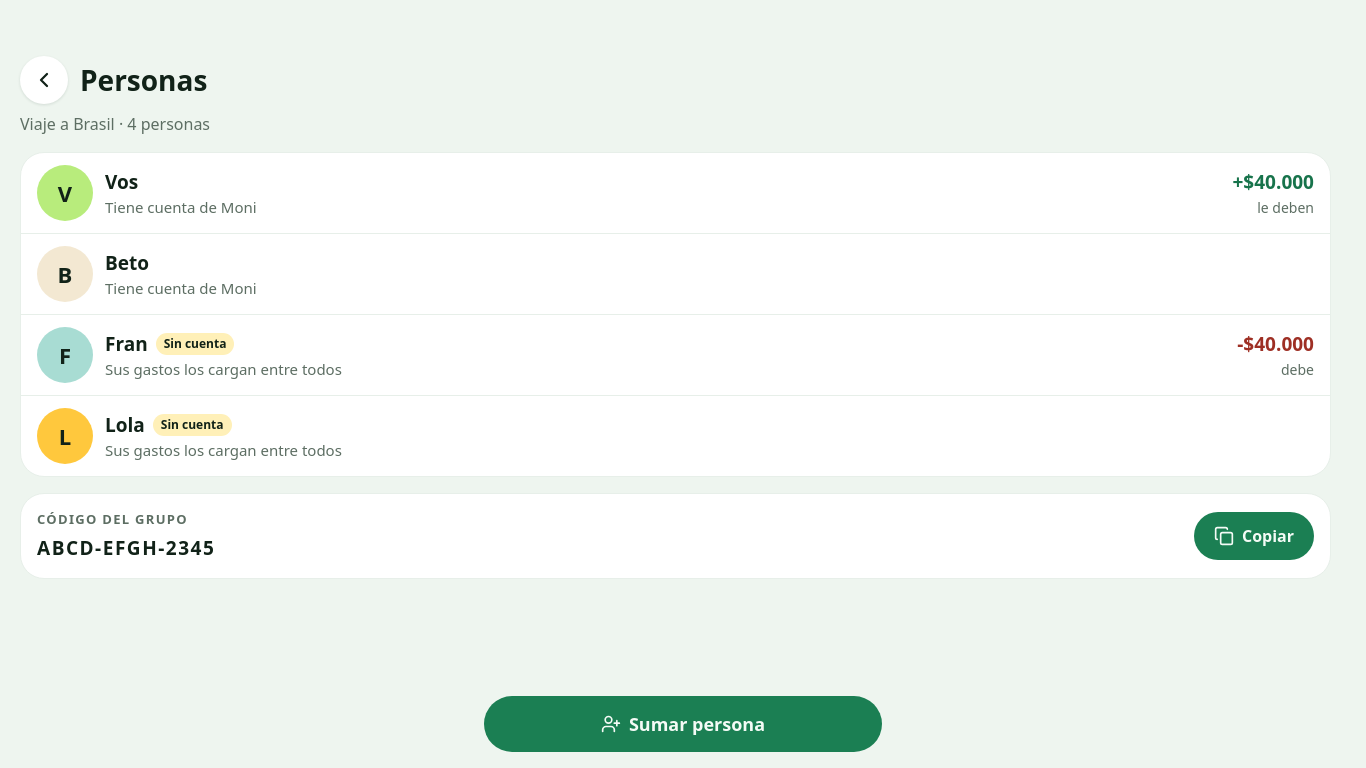
Test: Personas del grupo (con y sin cuenta) › adds a person by name only, stored in the group
Click the button "Sumar persona" at (683, 724), box x1=484 y1=696 x2=882 y2=752
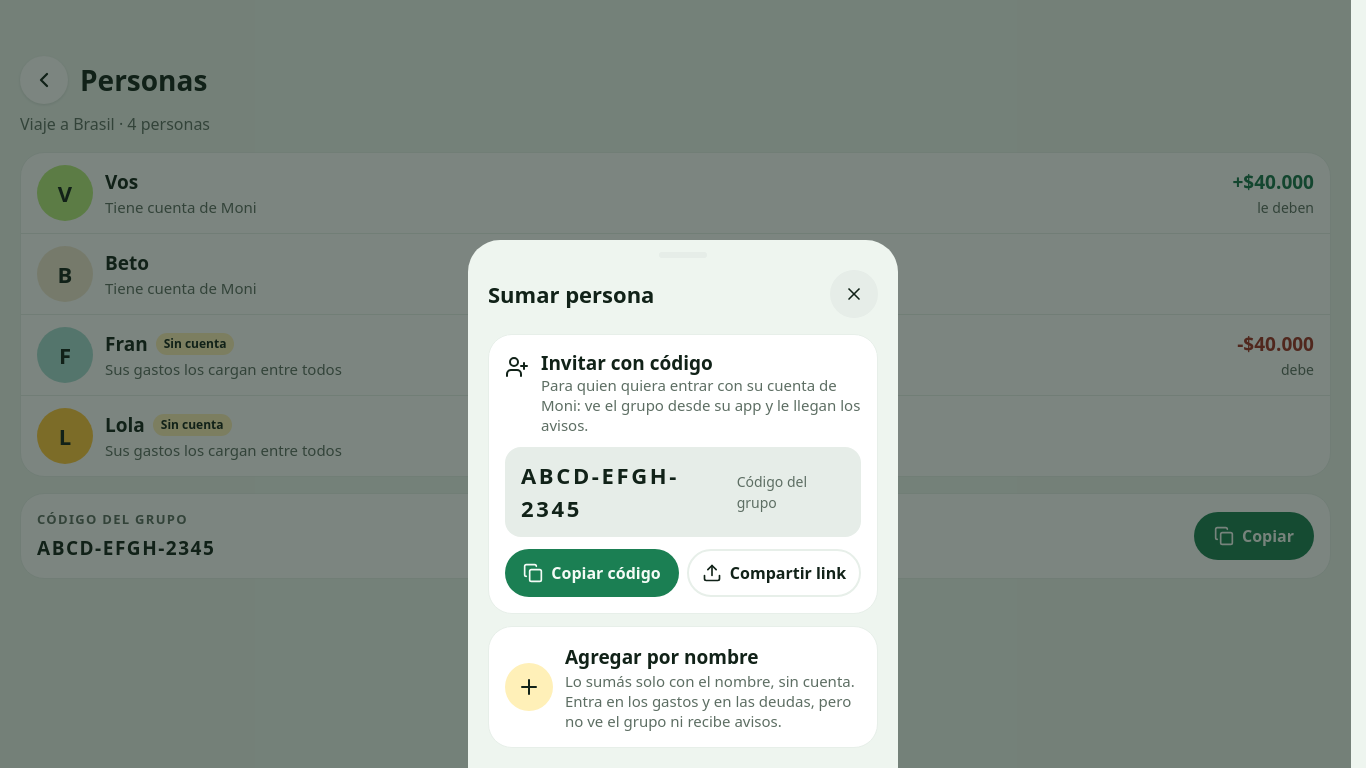
Result: the text "Invitar con código" is shown at x1=541 y1=350 x2=713 y2=376
Click the button "Agregar por nombre" at (683, 687), box x1=488 y1=626 x2=878 y2=748
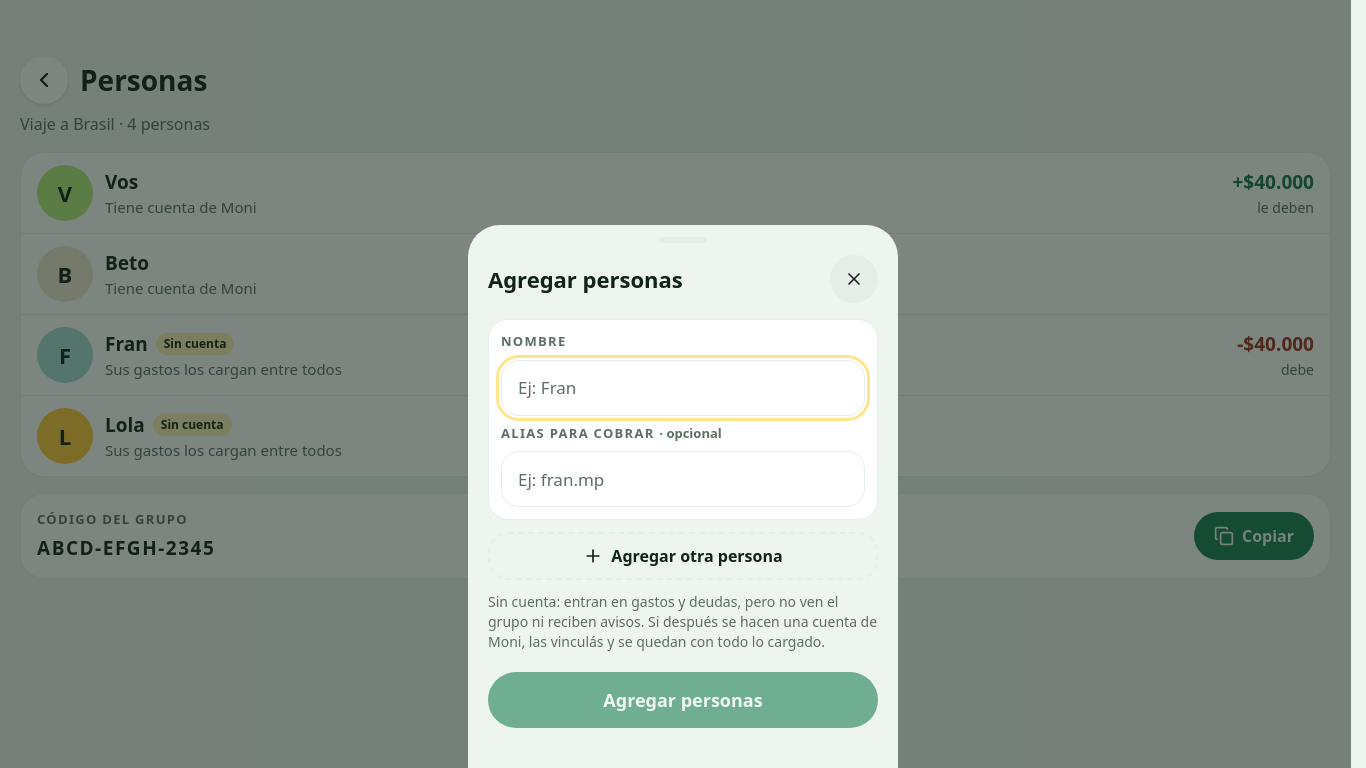
Type "Martina" into the field named "Nombre" at (683, 388), box x1=501 y1=360 x2=865 y2=416
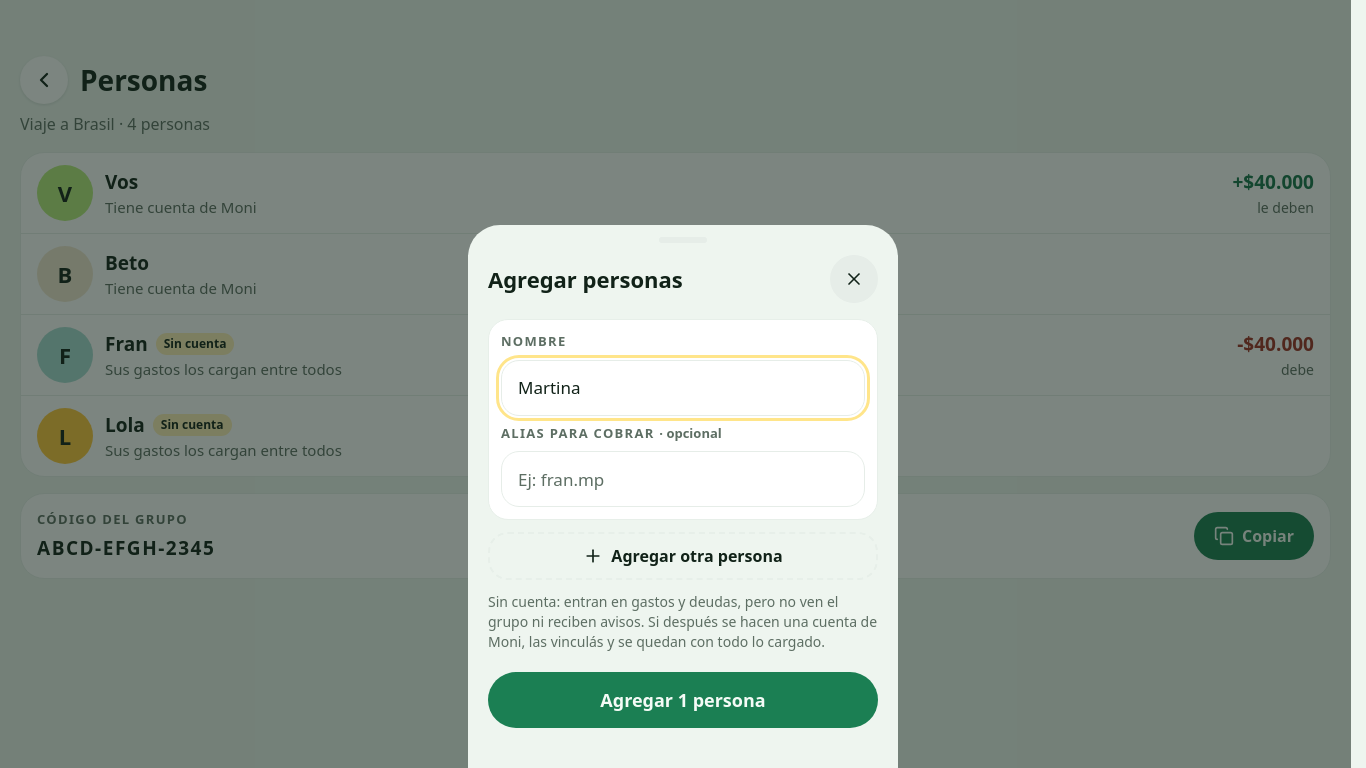
Click the button "Agregar 1 persona" at (683, 700), box x1=488 y1=672 x2=878 y2=728
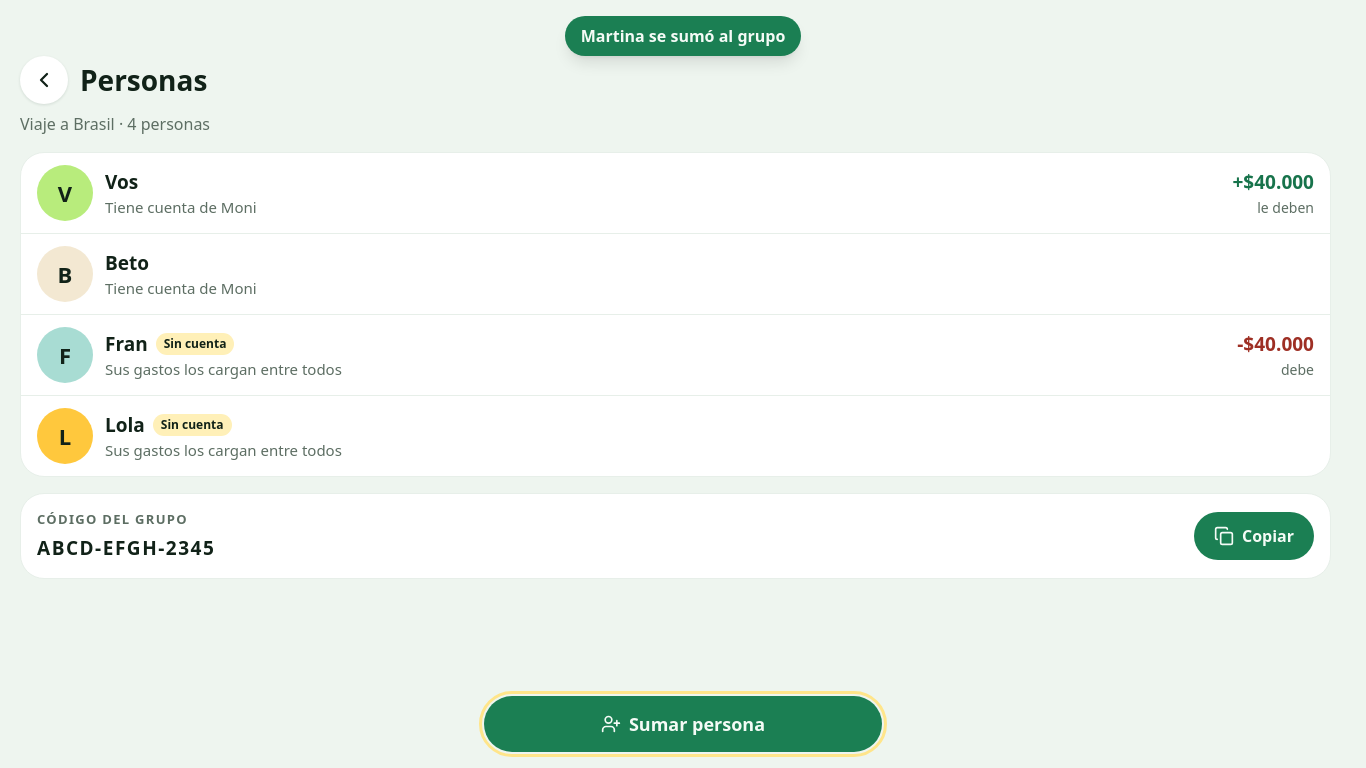
Result: the text "Martina se sumó al grupo" is shown at x1=581 y1=24 x2=785 y2=48
